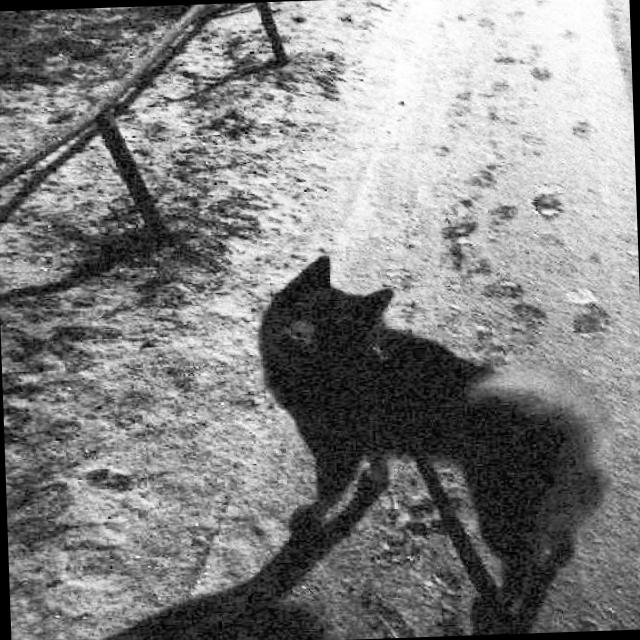Dog: (210, 212, 604, 638)
